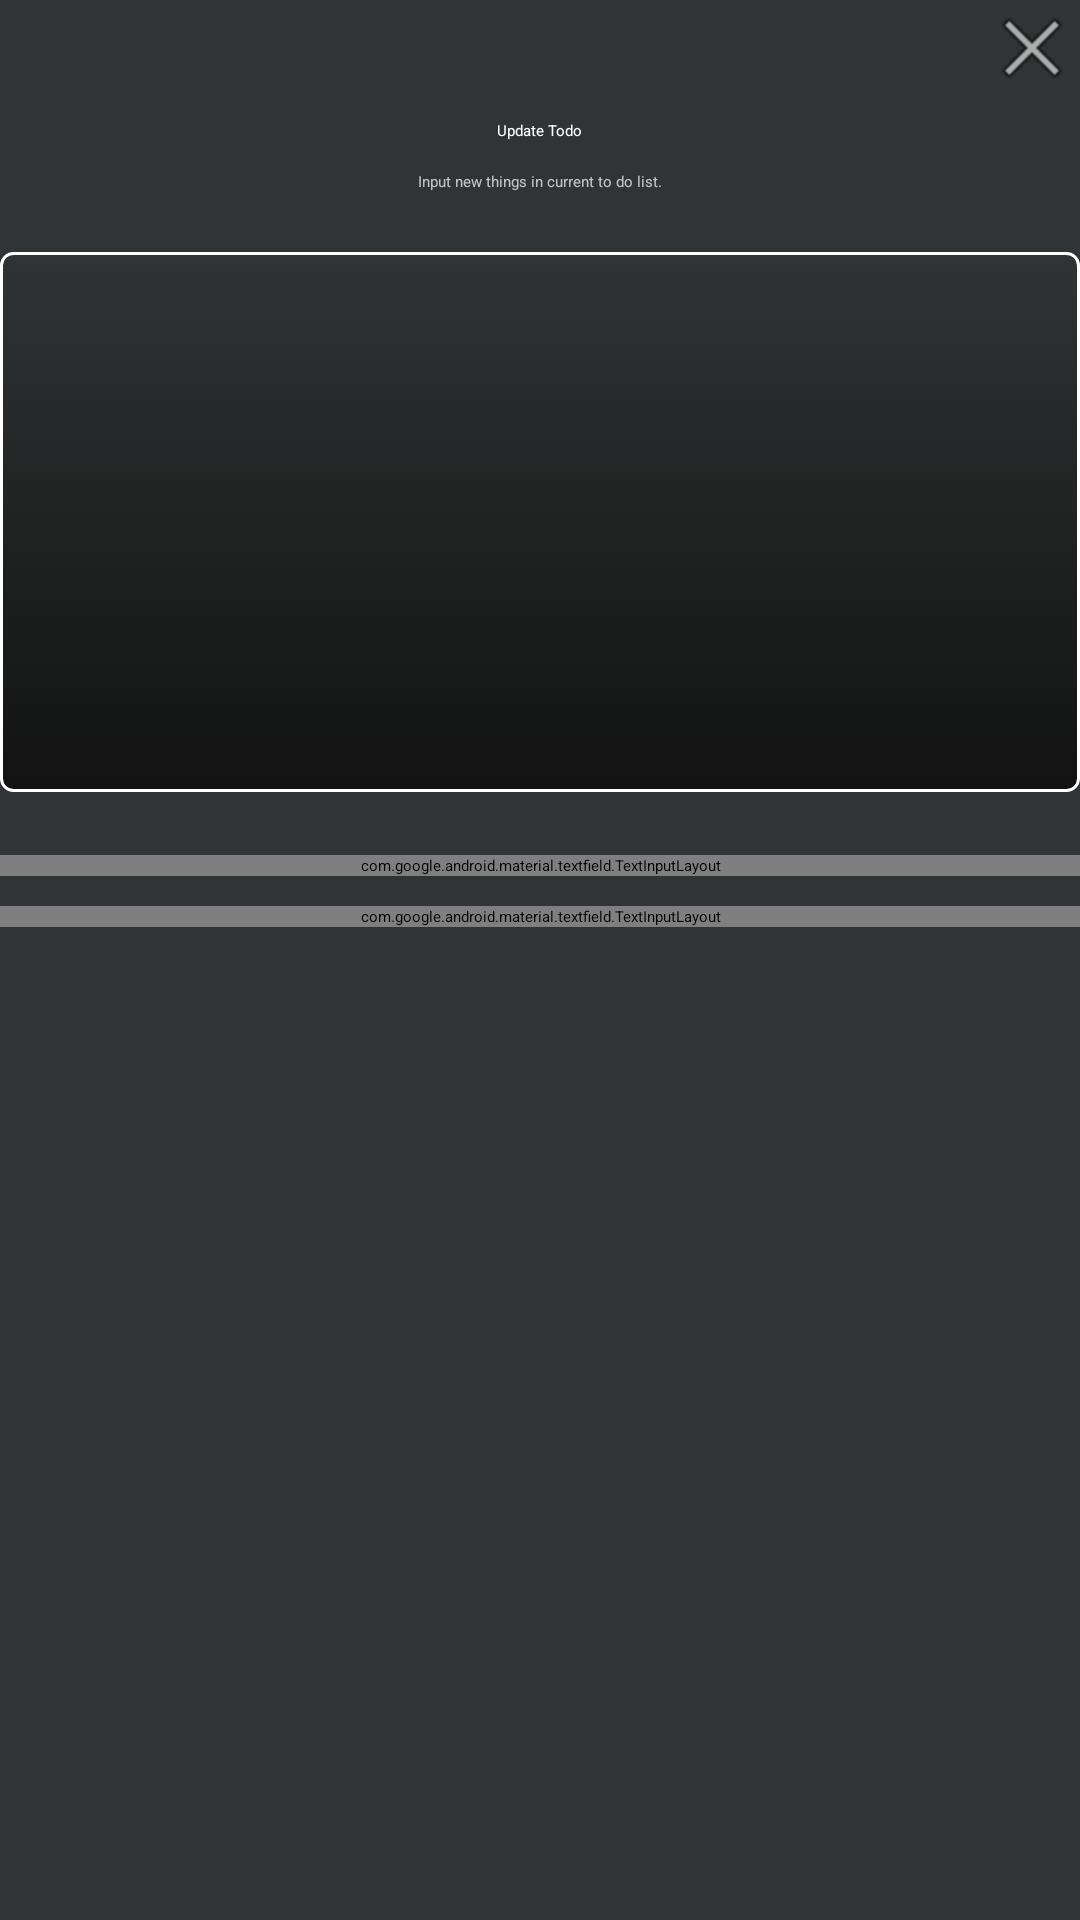

Icons on this 1080*1920 Android screen, each with the point to tap as (x,y):
Close: (1032,48)
